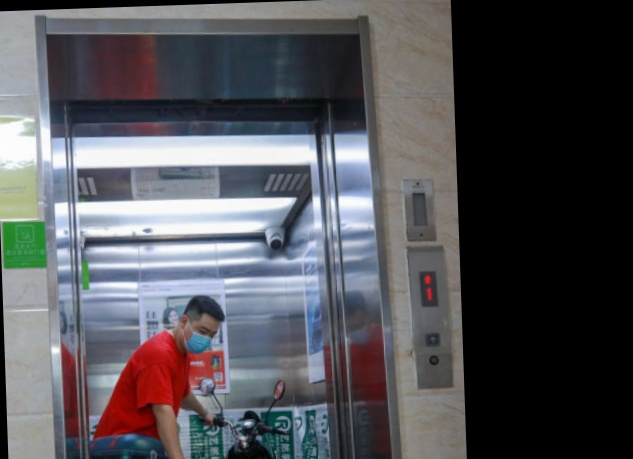ebike: (198, 376, 292, 459)
person: (91, 297, 224, 456)
